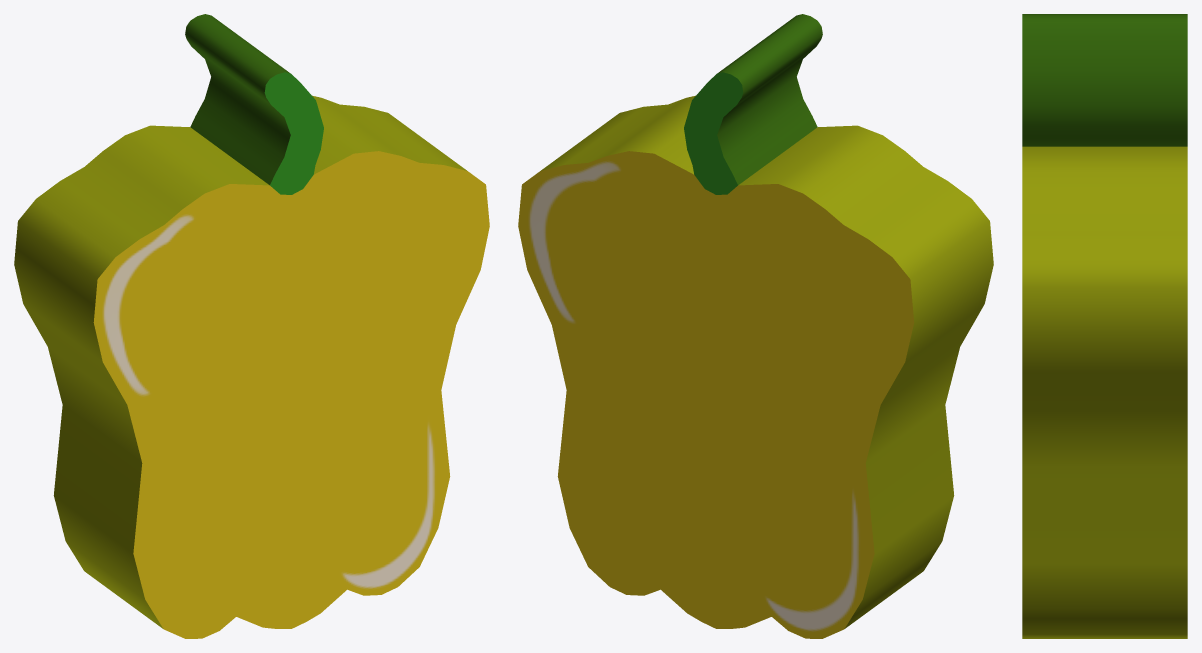
Rendered from mesh_Capsicum_v1.0.fbx.
3 renders of one model, left to right at view 1: azimuth 30°, elevation 25°; view 2: azimuth 150°, elevation 25°; view 3: azimuth 270°, elevation 25°, orthographic. The views are drawn at different scales.
Parts seen in each view (by area): view 1: pCube32; view 2: pCube32; view 3: pCube32.
Boxes of the visible parts, x1=… form: pCube32: x1=14, y1=14, x2=489, y2=638; pCube32: x1=518, y1=14, x2=993, y2=638; pCube32: x1=1022, y1=14, x2=1187, y2=638.
Bounding box in the file's own units: 83.54 × 113 × 29.08.
